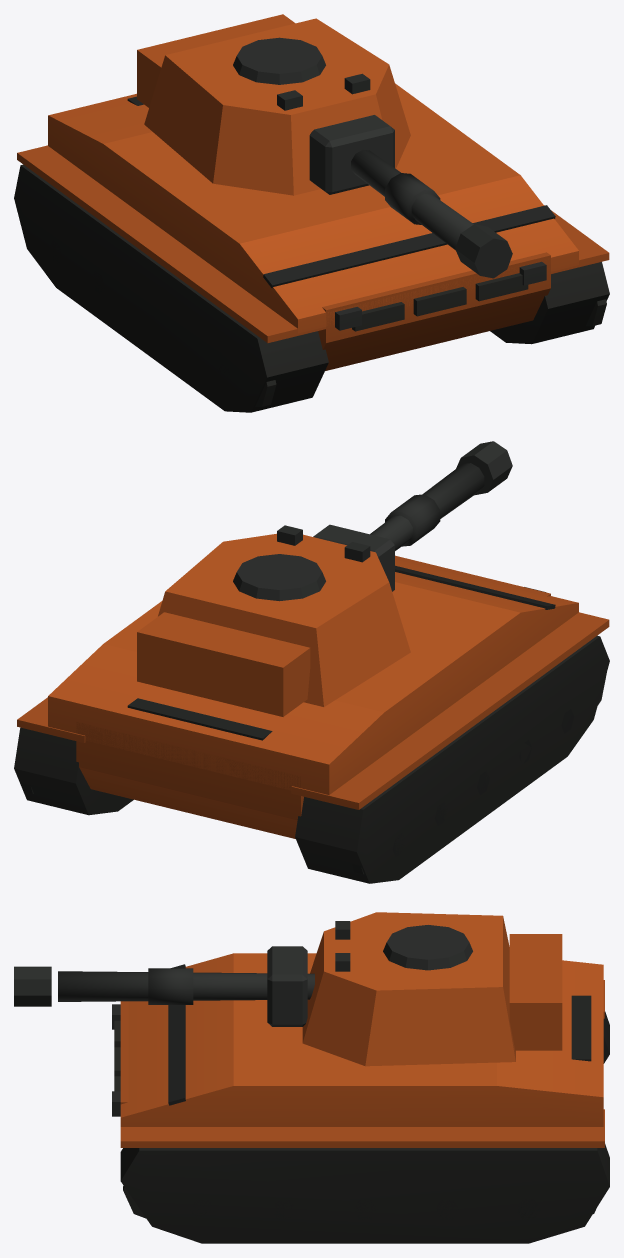
File: tank.glb
3 renders of one model, top to bottom at view 1: azimuth 30°, elevation 25°; view 2: azimuth 150°, elevation 25°; view 3: azimuth 270°, elevation 25°, orthographic. The views are drawn at different scales.
Parts seen in each view (by area): view 1: tank_body, tank_barrel; view 2: tank_body, tank_barrel; view 3: tank_body, tank_barrel.
Boxes of the visible parts, x1,y1,x2,y2 form: tank_body: (14,14,609,412); tank_barrel: (351,149,512,278); tank_body: (14,524,609,883); tank_barrel: (370,441,512,550); tank_body: (112,912,609,1243); tank_barrel: (14,966,314,1006).
Size of the model in its own units: 3.05 by 1.95 by 4.75.
